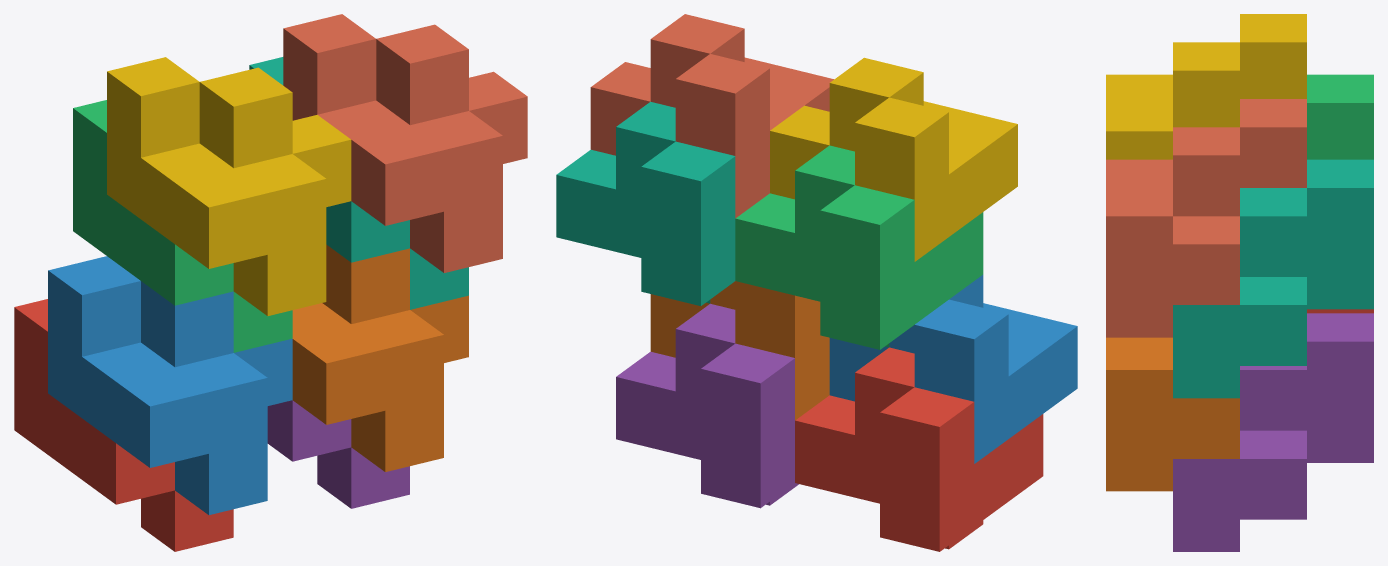
Rendered from tiling.obj.
The picture shows the model from 3 angles, left to right: view 1: azimuth 30°, elevation 25°; view 2: azimuth 150°, elevation 25°; view 3: azimuth 270°, elevation 25°; orthographic projection. The views are drawn at different scales.
Visible parts, largest first — view 1: copy_1_domain_4, copy_1_domain_2, copy_1_domain_8, copy_1_domain_6, copy_1_domain_1, copy_1_domain_3, copy_1_domain_5, copy_1_domain_7; view 2: copy_1_domain_1, copy_1_domain_3, copy_1_domain_4, copy_1_domain_5, copy_1_domain_7, copy_1_domain_8, copy_1_domain_2, copy_1_domain_6; view 3: copy_1_domain_8, copy_1_domain_7, copy_1_domain_5, copy_1_domain_4, copy_1_domain_6, copy_1_domain_3.
Part boxes in pixels (left/top/right/bottom): copy_1_domain_4: left=107, top=57, right=351, bottom=315; copy_1_domain_2: left=48, top=256, right=292, bottom=514; copy_1_domain_8: left=283, top=14, right=527, bottom=272; copy_1_domain_6: left=292, top=244, right=468, bottom=471; copy_1_domain_1: left=14, top=299, right=233, bottom=551; copy_1_domain_3: left=73, top=100, right=292, bottom=352; copy_1_domain_5: left=267, top=400, right=409, bottom=508; copy_1_domain_7: left=249, top=57, right=468, bottom=309; copy_1_domain_1: left=795, top=347, right=1043, bottom=551; copy_1_domain_3: left=735, top=145, right=983, bottom=349; copy_1_domain_4: left=770, top=57, right=1017, bottom=261; copy_1_domain_5: left=616, top=303, right=798, bottom=508; copy_1_domain_7: left=556, top=101, right=735, bottom=305; copy_1_domain_8: left=590, top=14, right=833, bottom=218; copy_1_domain_2: left=829, top=275, right=1077, bottom=463; copy_1_domain_6: left=650, top=281, right=829, bottom=420; copy_1_domain_8: left=1106, top=99, right=1306, bottom=337; copy_1_domain_7: left=1173, top=159, right=1373, bottom=398; copy_1_domain_5: left=1173, top=313, right=1373, bottom=551; copy_1_domain_4: left=1106, top=14, right=1306, bottom=159; copy_1_domain_6: left=1106, top=337, right=1239, bottom=491; copy_1_domain_3: left=1307, top=74, right=1373, bottom=159.
Bounding box in the file's own units: 7 × 7 × 4.
